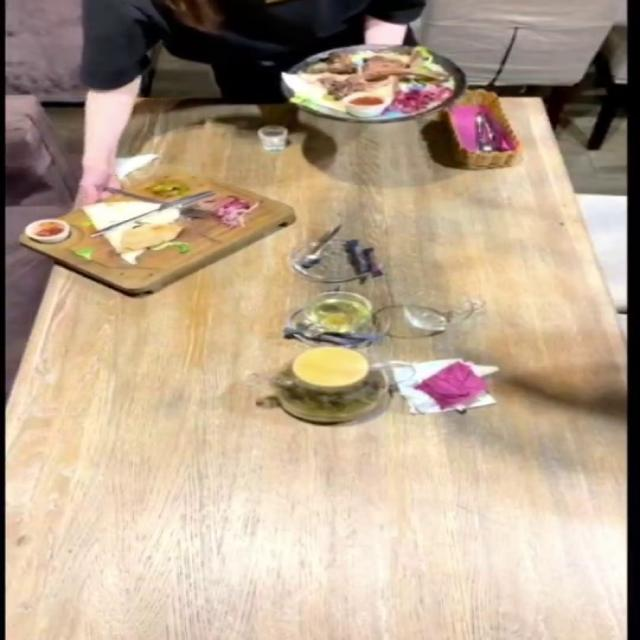meat: (271, 39, 508, 129)
tea: (271, 352, 405, 431)
